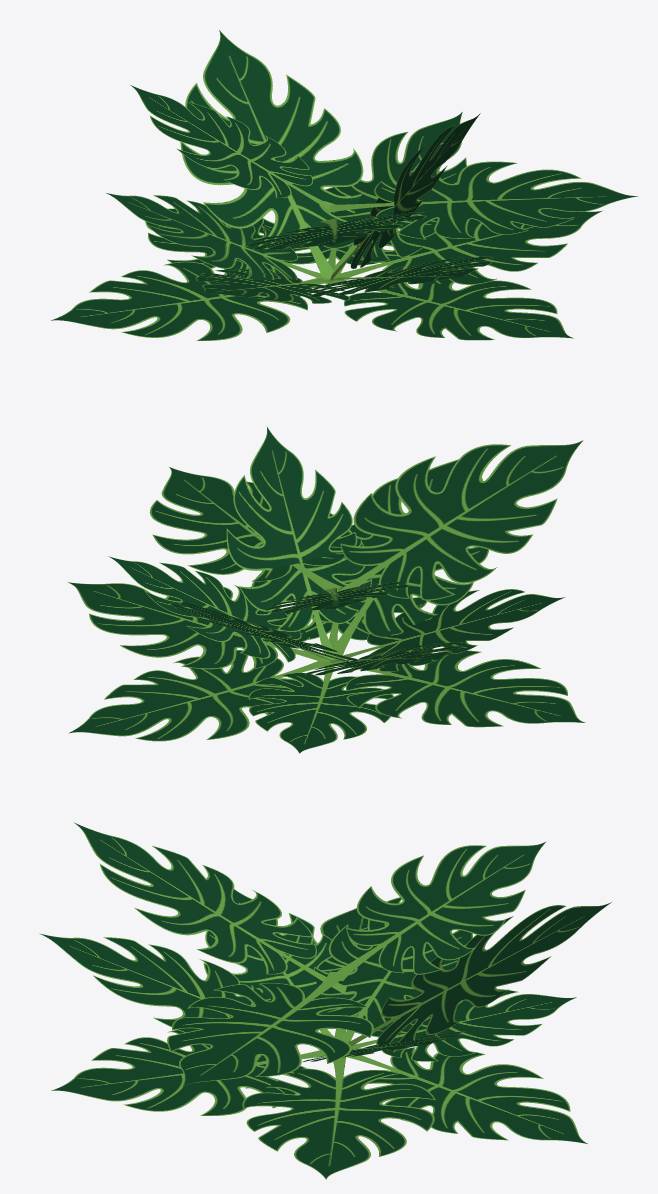
File: Palm5_LOD2.fbx
3 views of the same model, one above another, from view 1: azimuth 30°, elevation 25°; view 2: azimuth 150°, elevation 25°; view 3: azimuth 270°, elevation 25° (orthographic). The views are drawn at different scales.
Visible parts, largest first — view 1: Palm5_LOD2; view 2: Palm5_LOD2; view 3: Palm5_LOD2.
Boxes of the visible parts, x1,y1,x2,y2 form: Palm5_LOD2: (51, 30, 638, 340); Palm5_LOD2: (68, 427, 585, 753); Palm5_LOD2: (39, 822, 611, 1179).
Bounding box in the file's own units: 688 × 235 × 651.
